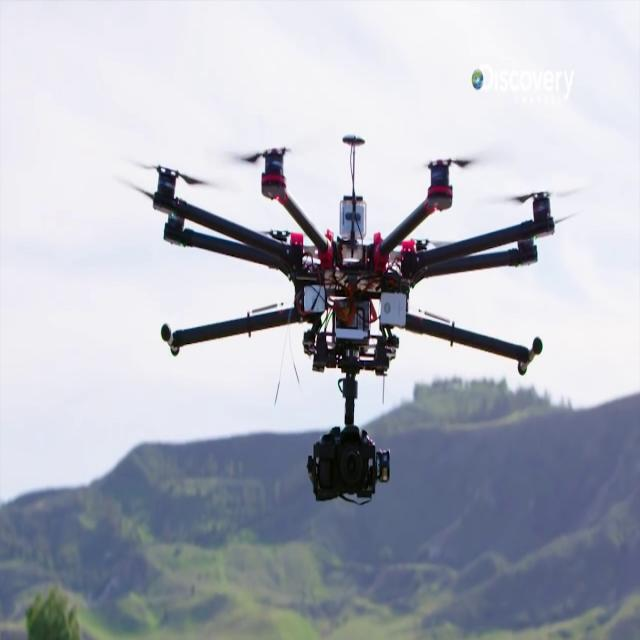drone: (124, 57, 582, 491)
